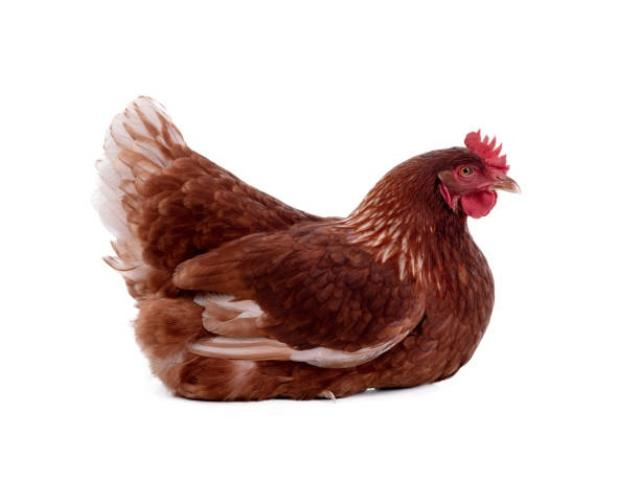Chicken: (92, 91, 522, 404)
